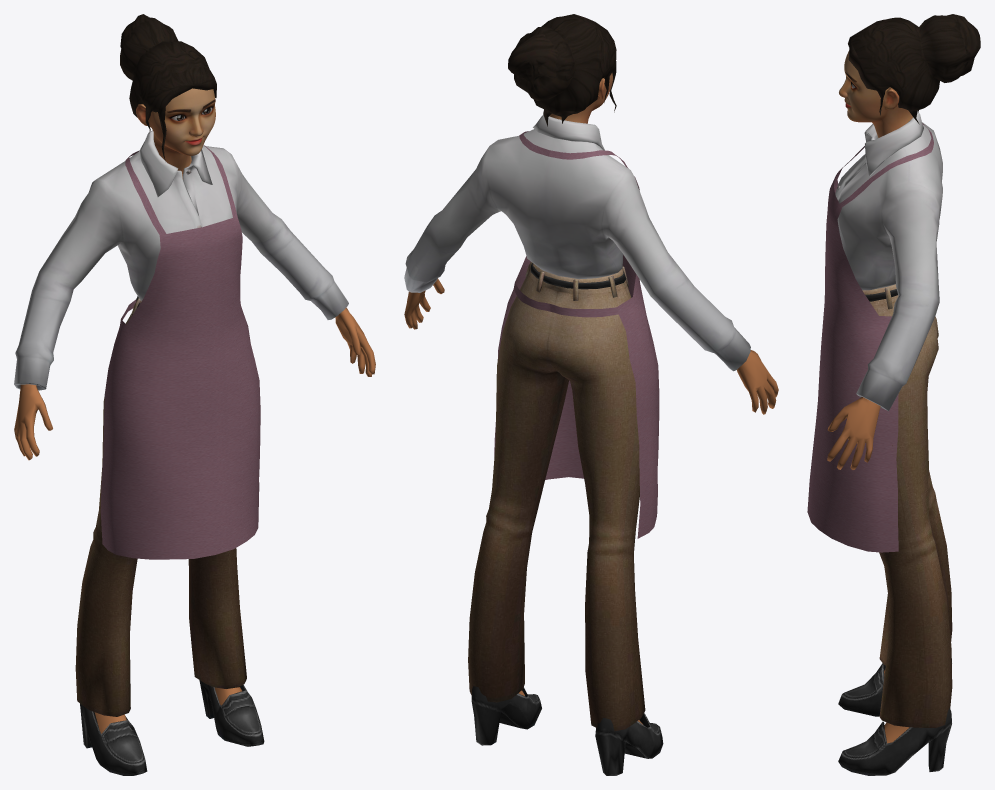
The model's file is Cashier02.fbx.
3 views of the same model, side by side, from view 1: azimuth 30°, elevation 25°; view 2: azimuth 150°, elevation 25°; view 3: azimuth 270°, elevation 25° (orthographic). The views are drawn at different scales.
Visible parts, largest first — view 1: Cashier 02.001; view 2: Cashier 02.001; view 3: Cashier 02.001.
Part boxes in pixels (x1,y1,x2,y2): Cashier 02.001: [14, 14, 375, 775]; Cashier 02.001: [404, 14, 778, 775]; Cashier 02.001: [807, 14, 980, 775].
Size of the model in its own units: 0.9276 by 0.3871 by 1.79.
